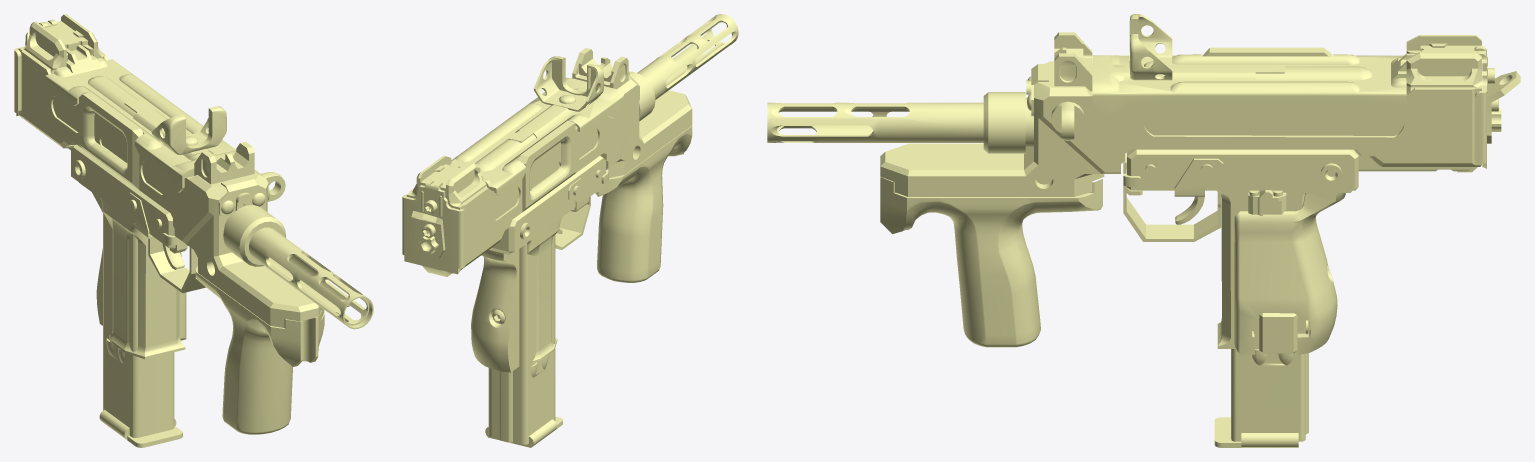
Rendered from MangaKa Props - M_R_MilitaryWeapons_TommyGun_01.glb.
3 views of the same model, side by side, from view 1: azimuth 30°, elevation 25°; view 2: azimuth 150°, elevation 25°; view 3: azimuth 270°, elevation 25° (orthographic). The views are drawn at different scales.
Parts seen in each view (by area): view 1: M_R_MilitaryWeapons_TommyGun_01_blueScreen, M_R_MilitaryWeapons_TommyGun_01_Megazine_blueScreen, M_R_MilitaryWeapons_TommyGun_01_Gate_blueScreen; view 2: M_R_MilitaryWeapons_TommyGun_01_blueScreen, M_R_MilitaryWeapons_TommyGun_01_Megazine_blueScreen, M_R_MilitaryWeapons_TommyGun_01_Gate_blueScreen; view 3: M_R_MilitaryWeapons_TommyGun_01_blueScreen, M_R_MilitaryWeapons_TommyGun_01_Megazine_blueScreen.
Part boxes in pixels (left/top/right/bottom): M_R_MilitaryWeapons_TommyGun_01_blueScreen: left=14, top=14, right=373, bottom=434; M_R_MilitaryWeapons_TommyGun_01_Megazine_blueScreen: left=99, top=212, right=182, bottom=447; M_R_MilitaryWeapons_TommyGun_01_Gate_blueScreen: left=94, top=112, right=127, bottom=164; M_R_MilitaryWeapons_TommyGun_01_blueScreen: left=402, top=14, right=738, bottom=372; M_R_MilitaryWeapons_TommyGun_01_Megazine_blueScreen: left=485, top=235, right=562, bottom=447; M_R_MilitaryWeapons_TommyGun_01_Gate_blueScreen: left=530, top=142, right=560, bottom=190; M_R_MilitaryWeapons_TommyGun_01_blueScreen: left=767, top=14, right=1520, bottom=354; M_R_MilitaryWeapons_TommyGun_01_Megazine_blueScreen: left=1214, top=194, right=1308, bottom=447.
Bounding box in the file's own units: 0.0526 × 0.1977 × 0.3302.
